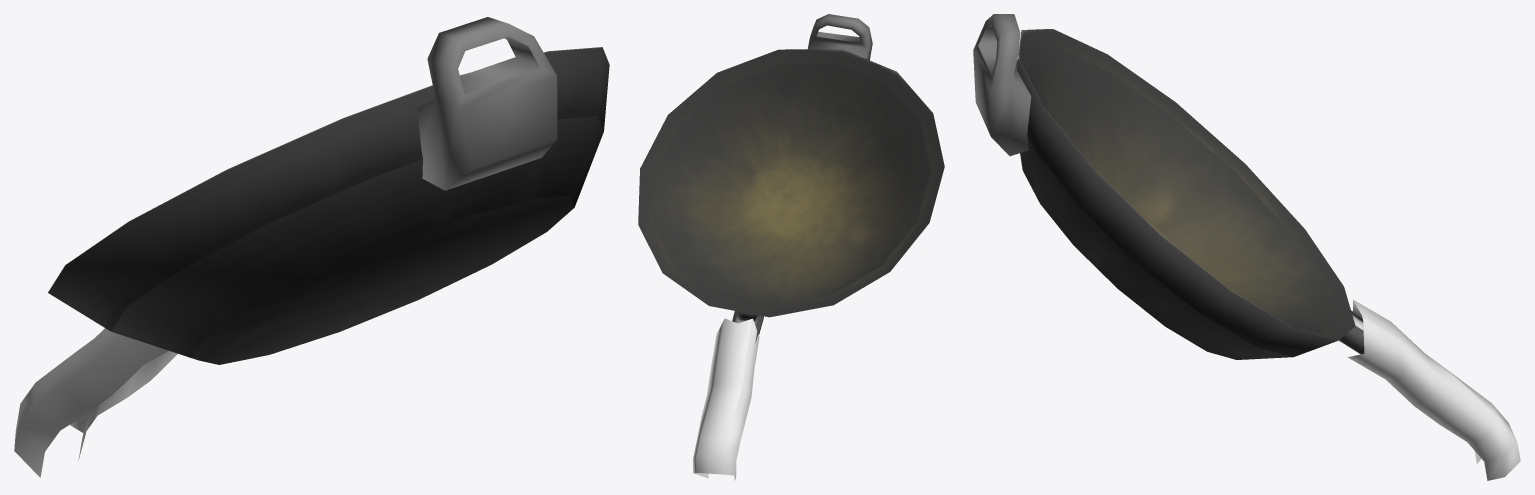
File: C_Wokpan.fbx
3 renders of one model, left to right at view 1: azimuth 30°, elevation 25°; view 2: azimuth 150°, elevation 25°; view 3: azimuth 270°, elevation 25°, orthographic. The views are drawn at different scales.
Visible parts, largest first — view 1: FriedEgg.001; view 2: FriedEgg.001; view 3: FriedEgg.001.
Boxes of the visible parts, box(x1,y1,x2,y2) form: FriedEgg.001: box(14, 17, 609, 477); FriedEgg.001: box(638, 14, 944, 480); FriedEgg.001: box(973, 14, 1520, 480).
Size of the model in its own units: 55.9 by 65.34 by 67.4.
